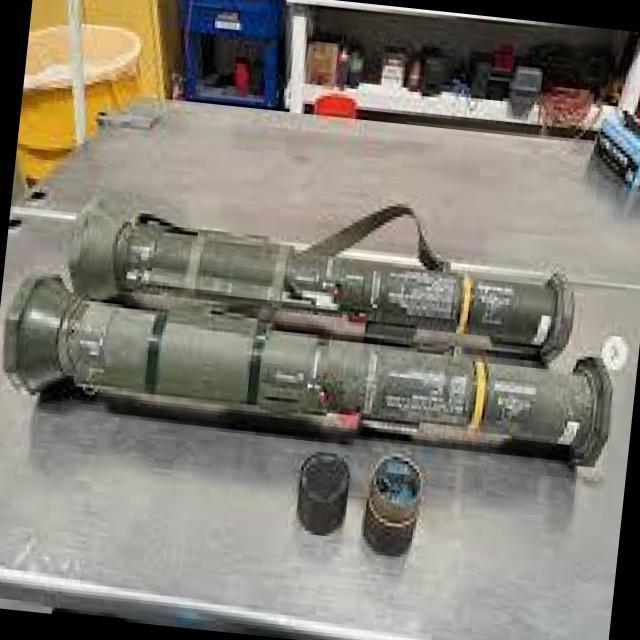rocket: (0, 200, 624, 455)
